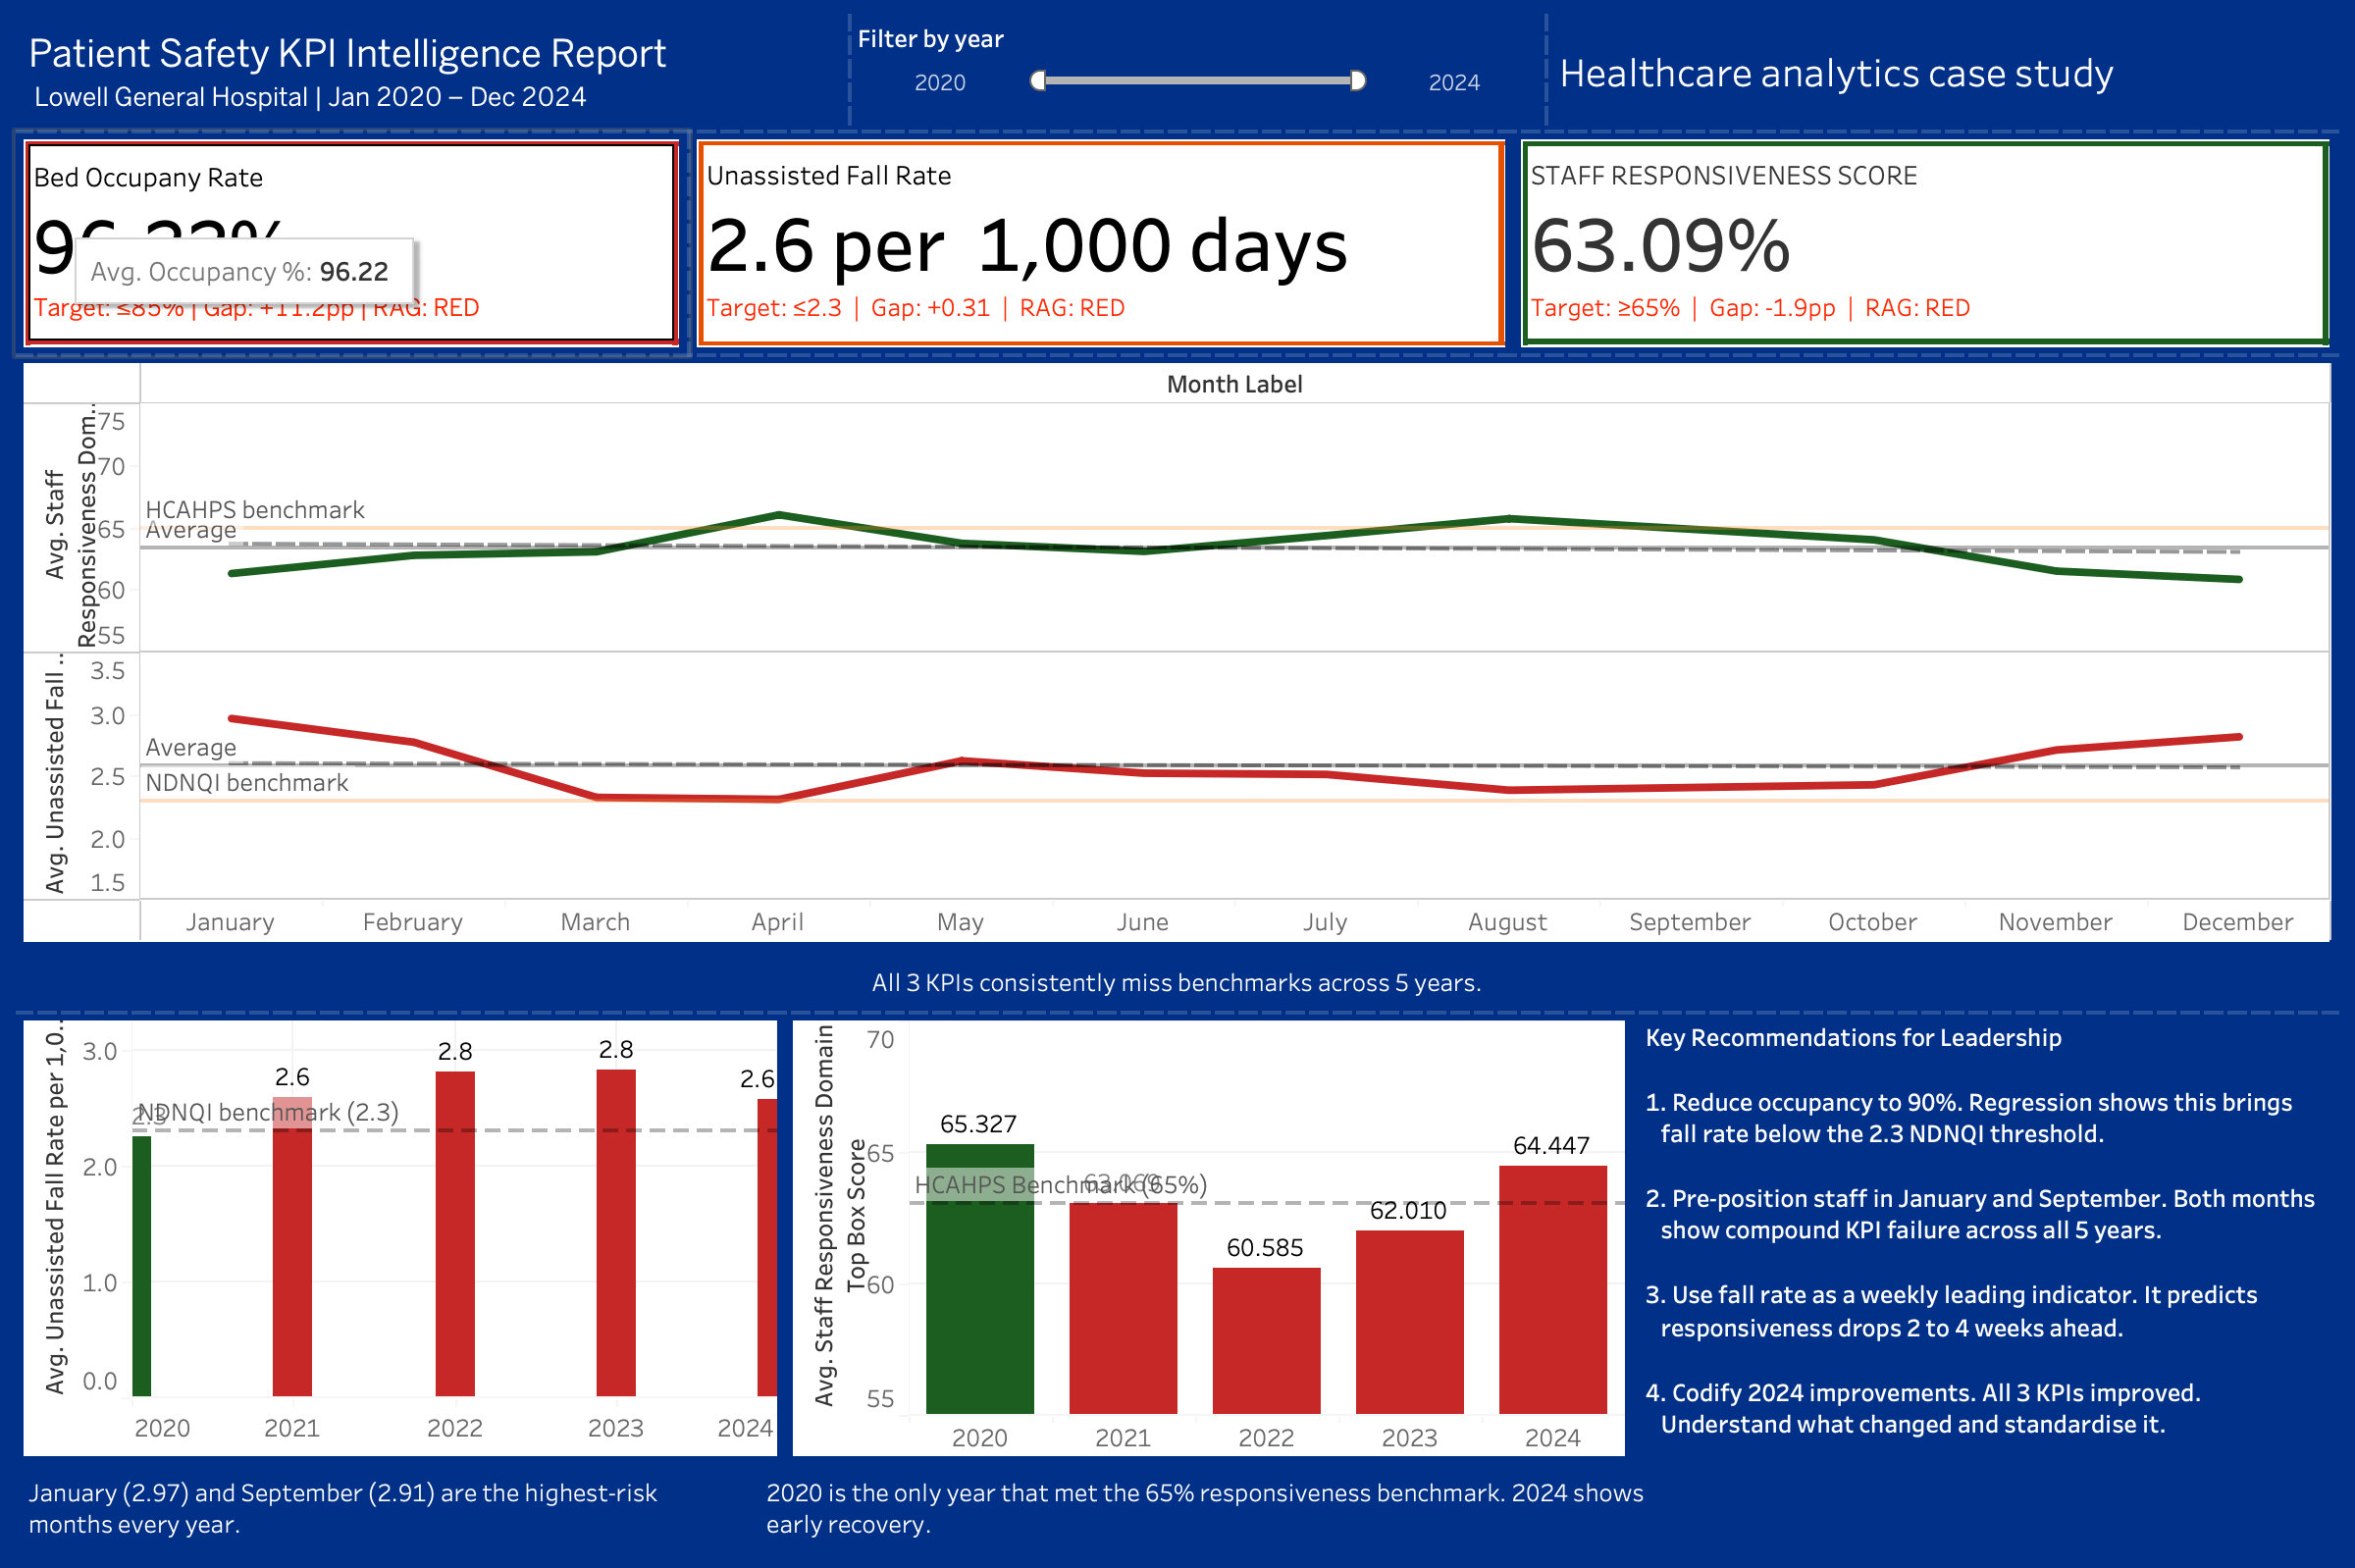

This screenshot's page, from the dashboard's own definition file:
{"tool":"tableau","page":{"name":"Dashboard 1","canvas":[1200,800],"ordinal":0},"visuals":[{"type":"text","box":[8,8,425,60]},{"type":"filter","title":"KPI Trend Analysis 2020 to 2024","param":"[federated.0u6aquy1xxtwrs14a5fvf1owoq48 (copy)].[none:Year:qk]","box":[433,8,355,60]},{"type":"text","box":[788,8,404,60]},{"type":"worksheet","title":"KPI-Occupancy","mark":"Automatic","box":[8,68,343,114]},{"type":"worksheet","title":"KPI - Fall Rate","mark":"Automatic","box":[351,68,420.5,114]},{"type":"worksheet","title":"KPI - Responsiveness","mark":"Automatic","box":[771.5,68,420.5,114]},{"type":"worksheet","title":"KPI Trend Analysis 2020 to 2024","mark":"Line","rows":["Staff Responsiveness Domain Top Box Score","Unassisted Fall Rate per 1,000 Patient Days"],"cols":["Month Label"],"box":[8,182,1184,303]},{"type":"text","box":[8,485,1184,32]},{"type":"worksheet","title":"Seasonal Bar Chart","mark":"Bar","rows":["Unassisted Fall Rate per 1,000 Patient Days"],"cols":["Year"],"box":[8,517,392,230]},{"type":"worksheet","title":"Year on Year","mark":"Bar","rows":["Staff Responsiveness Domain Top Box Score"],"cols":["Month"],"box":[400,517,432,230]},{"type":"text","box":[832,517,360,229]},{"type":"text","box":[8,747,376,45]},{"type":"text","box":[384,747,460,45]},{"type":"text","box":[844,747,348,45]}]}

Visuals, with their boxes in screenshot pixels (x1, y1, x2, y2), scaled from the page's 1200x800 canvas onto the 2355x1568 screenshot:
text: <bbox>16, 16, 850, 133</bbox>
"KPI Trend Analysis 2020 to 2024" filter: <bbox>850, 16, 1546, 133</bbox>
text: <bbox>1546, 16, 2339, 133</bbox>
"KPI-Occupancy" worksheet: <bbox>16, 133, 689, 357</bbox>
"KPI - Fall Rate" worksheet: <bbox>689, 133, 1514, 357</bbox>
"KPI - Responsiveness" worksheet: <bbox>1514, 133, 2339, 357</bbox>
"KPI Trend Analysis 2020 to 2024" worksheet (Line marks): <bbox>16, 357, 2339, 951</bbox>
text: <bbox>16, 951, 2339, 1014</bbox>
"Seasonal Bar Chart" worksheet (Bar marks): <bbox>16, 1014, 785, 1464</bbox>
"Year on Year" worksheet (Bar marks): <bbox>785, 1014, 1633, 1464</bbox>
text: <bbox>1633, 1014, 2339, 1462</bbox>
text: <bbox>16, 1464, 754, 1552</bbox>
text: <bbox>754, 1464, 1656, 1552</bbox>
text: <bbox>1656, 1464, 2339, 1552</bbox>
